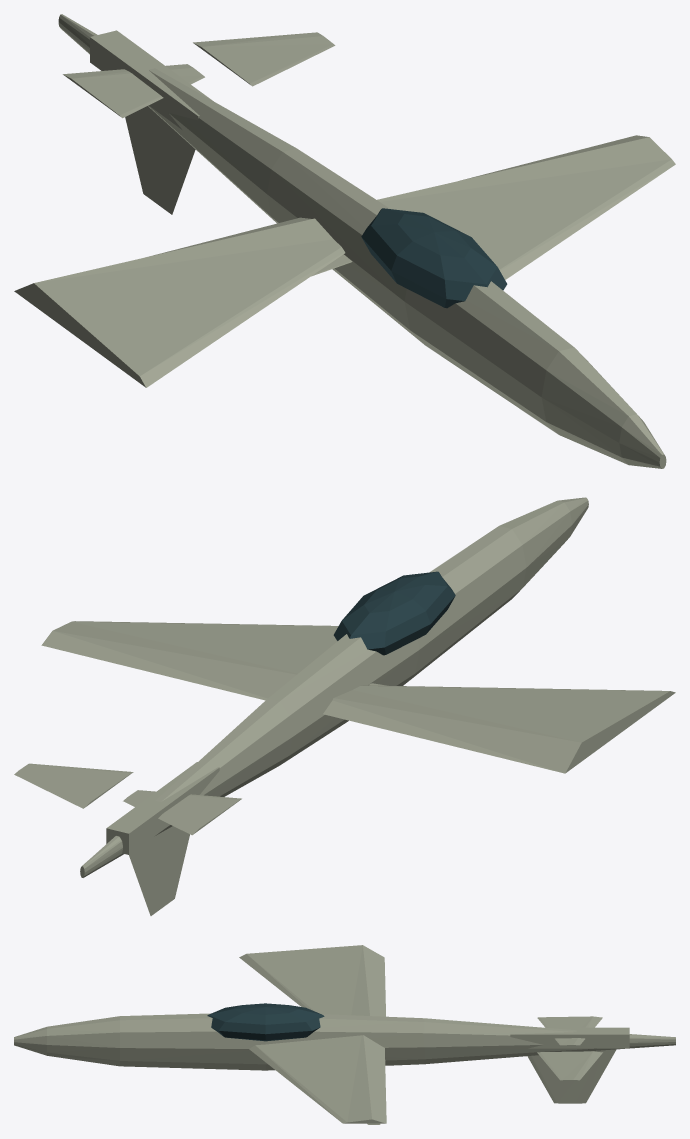
The picture shows the model from 3 angles, top to bottom: view 1: azimuth 30°, elevation 25°; view 2: azimuth 150°, elevation 25°; view 3: azimuth 270°, elevation 25°; orthographic projection. The views are drawn at different scales.
Parts seen in each view (by area): view 1: Fuselage, Wing_L, Wing_R, Cockpit, Rudder, Elevator_R, TailBoom, Elevator_L; view 2: Fuselage, Wing_L, Wing_R, Cockpit, Rudder, TailBoom, Elevator_R, Elevator_L; view 3: Fuselage, Wing_R, Wing_L, Cockpit, Rudder, TailBoom, Elevator_R, Elevator_L.
Part boxes in pixels (box(x1,y1,x2,y2)): Fuselage: box(58, 14, 666, 468); Wing_L: box(14, 217, 345, 387); Wing_R: box(377, 135, 675, 279); Cockpit: box(361, 208, 507, 308); Rudder: box(125, 106, 195, 214); Elevator_R: box(193, 32, 335, 86); TailBoom: box(90, 30, 212, 129); Elevator_L: box(63, 64, 204, 118); Fuselage: box(80, 497, 588, 877); Wing_L: box(323, 685, 675, 773); Wing_R: box(41, 621, 338, 700); Cockpit: box(333, 571, 455, 655); Rudder: box(129, 826, 189, 915); TailBoom: box(106, 762, 219, 854); Elevator_R: box(14, 763, 133, 808); Elevator_L: box(123, 790, 241, 835); Fuselage: box(14, 1013, 675, 1070); Wing_R: box(249, 1035, 386, 1123); Wing_L: box(239, 945, 385, 1016); Cockpit: box(207, 1003, 324, 1041); Rudder: box(527, 1049, 616, 1103); TailBoom: box(510, 1027, 629, 1048); Elevator_R: box(537, 1051, 602, 1080); Elevator_L: box(537, 1016, 602, 1045).
Bounding box in the file's own units: 14.11 × 3.78 × 23.57.
